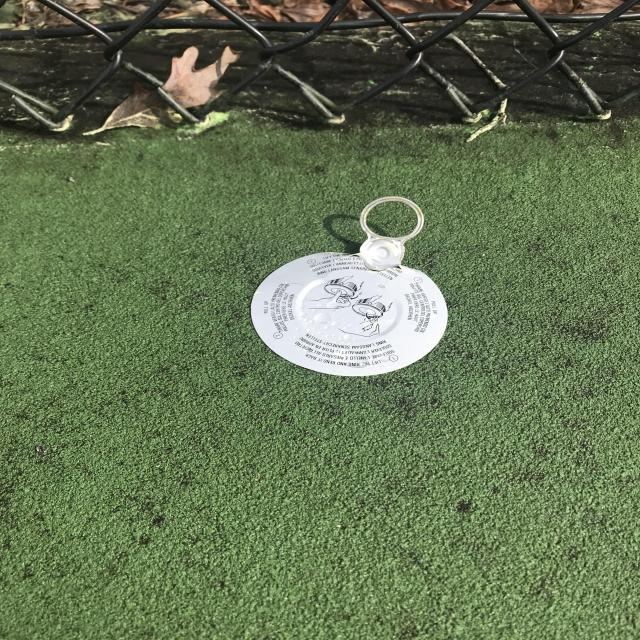litter: (249, 193, 447, 379)
